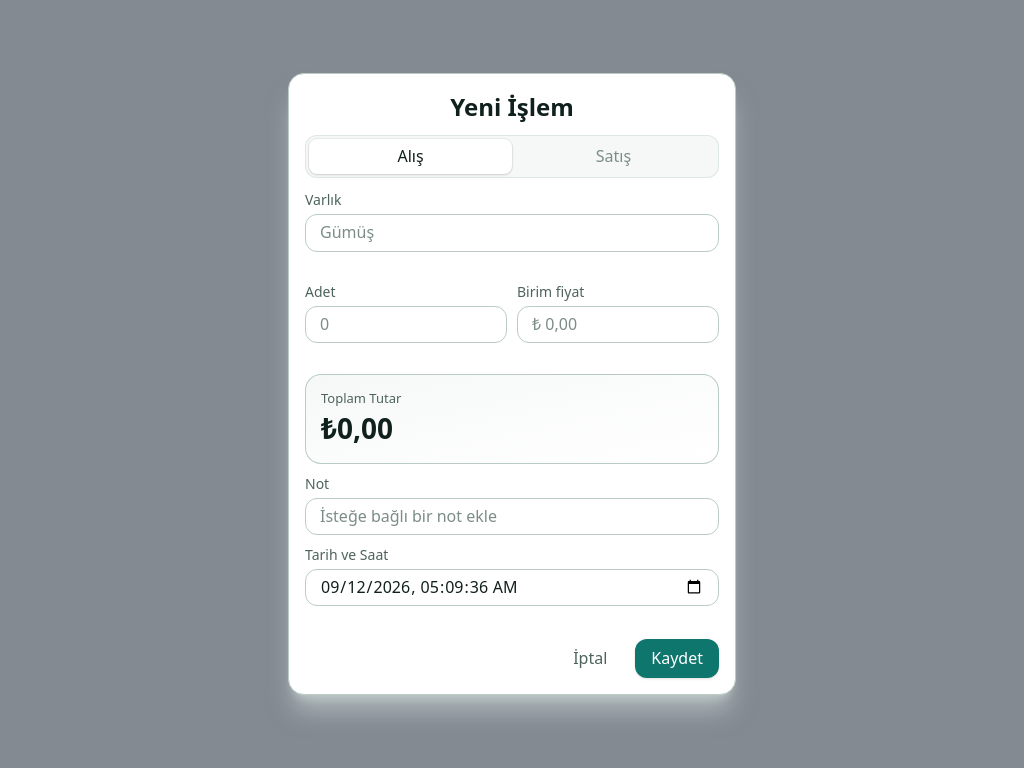
Test case: TransactionFormModal › shows validation errors when submitting an empty form
The image size is (1024, 768).
Click the button "Kaydet": x=677, y=658 [635, 638, 719, 678]
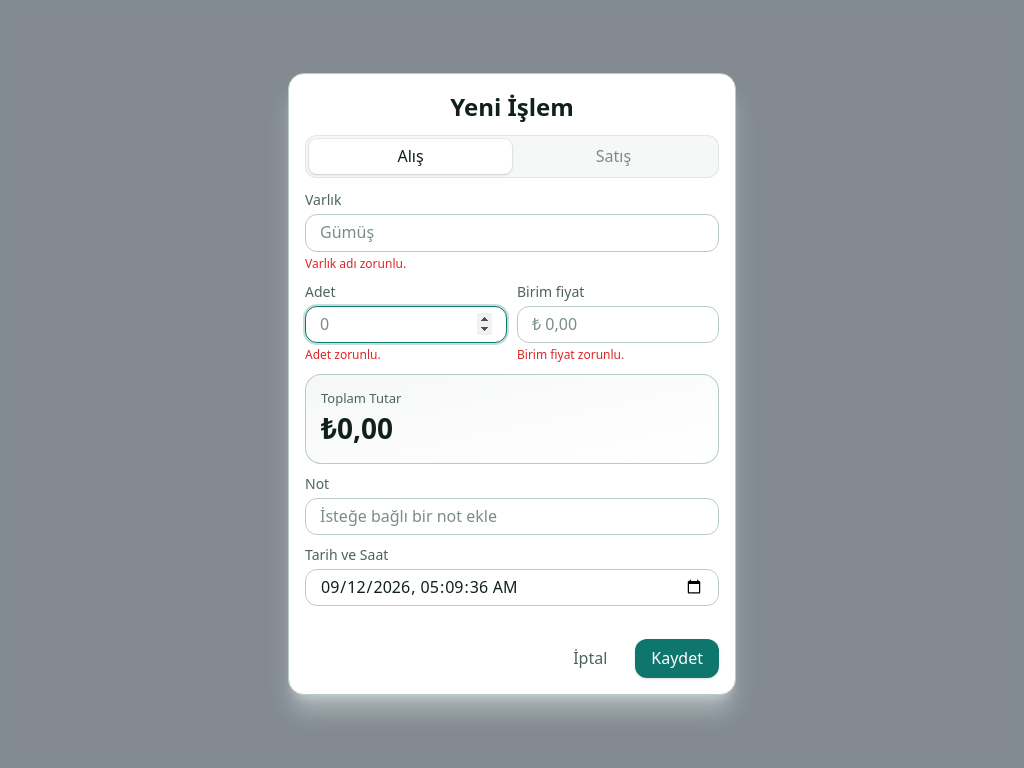
expect the text "Varlık adı zorunlu." is shown: met, box [305, 255, 406, 272]
expect the text "Adet zorunlu." is shown: met, box [305, 346, 381, 363]
expect the text "Birim fiyat zorunlu." is shown: met, box [517, 346, 624, 363]
